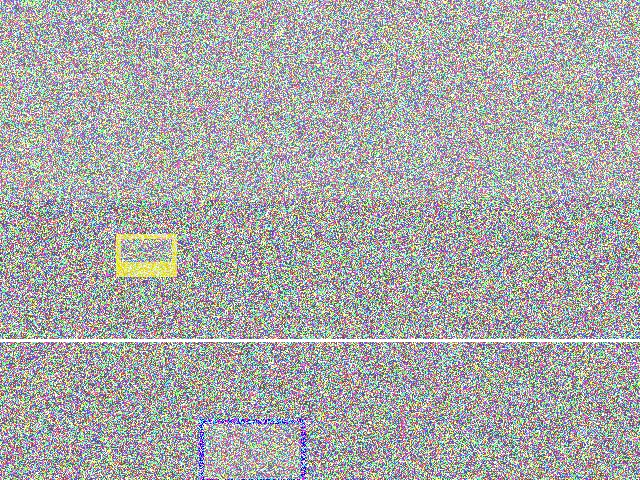car: (128, 120, 235, 241)
